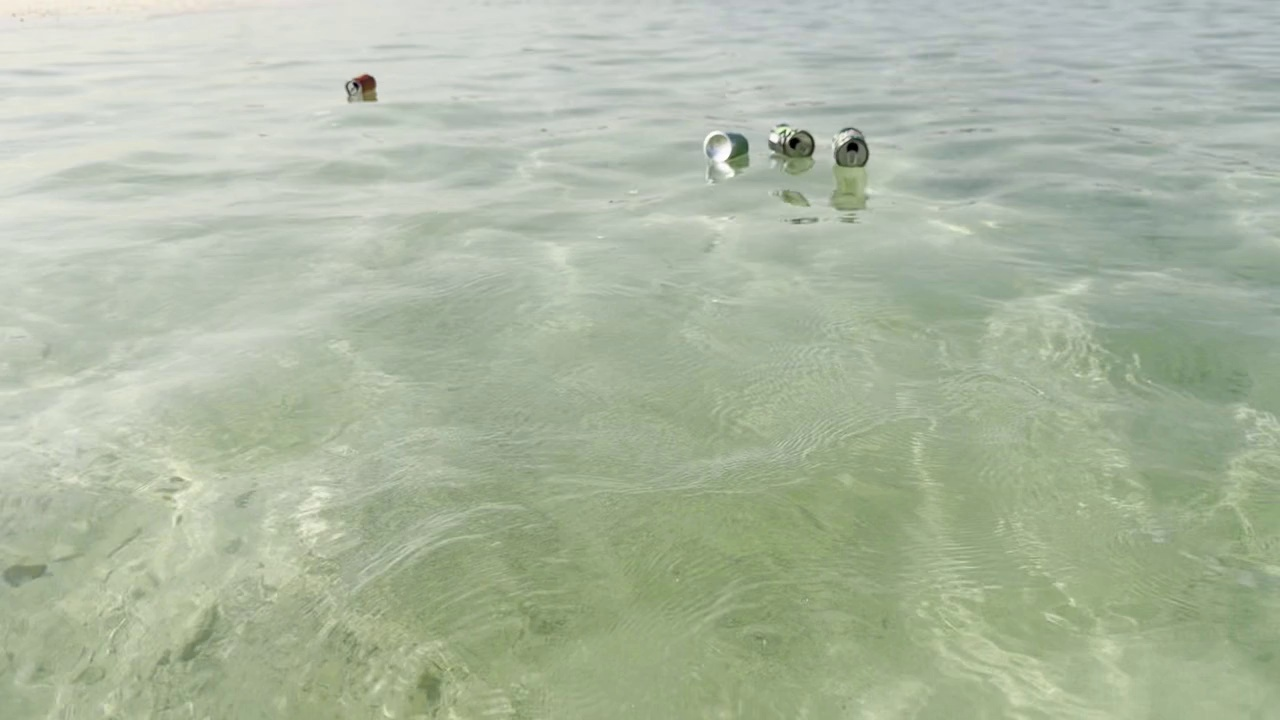debris: (761, 118, 816, 165), (825, 119, 871, 175), (696, 125, 754, 168), (337, 70, 381, 100)
